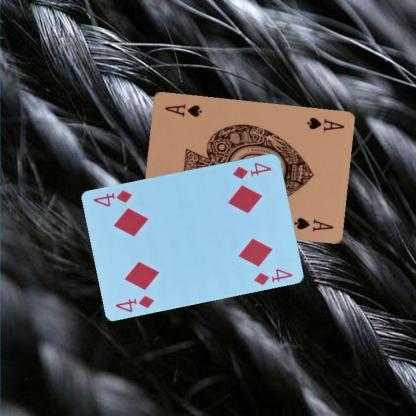4d: (113, 292, 156, 314), (230, 160, 272, 180)
As: (303, 115, 345, 133)
